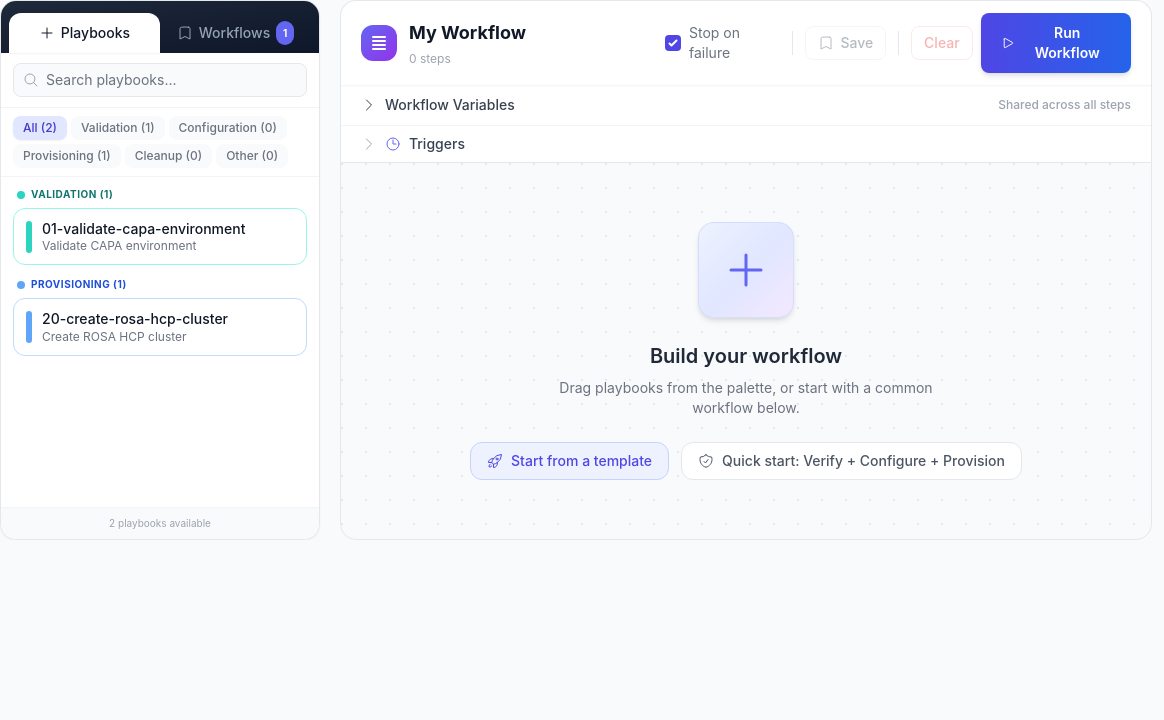
Test: WorkflowBuilder › loads workflow from library via API
// Switch to workflows tab in palette
Click the button "Workflows 1": (236, 33) [160,13,311,53]
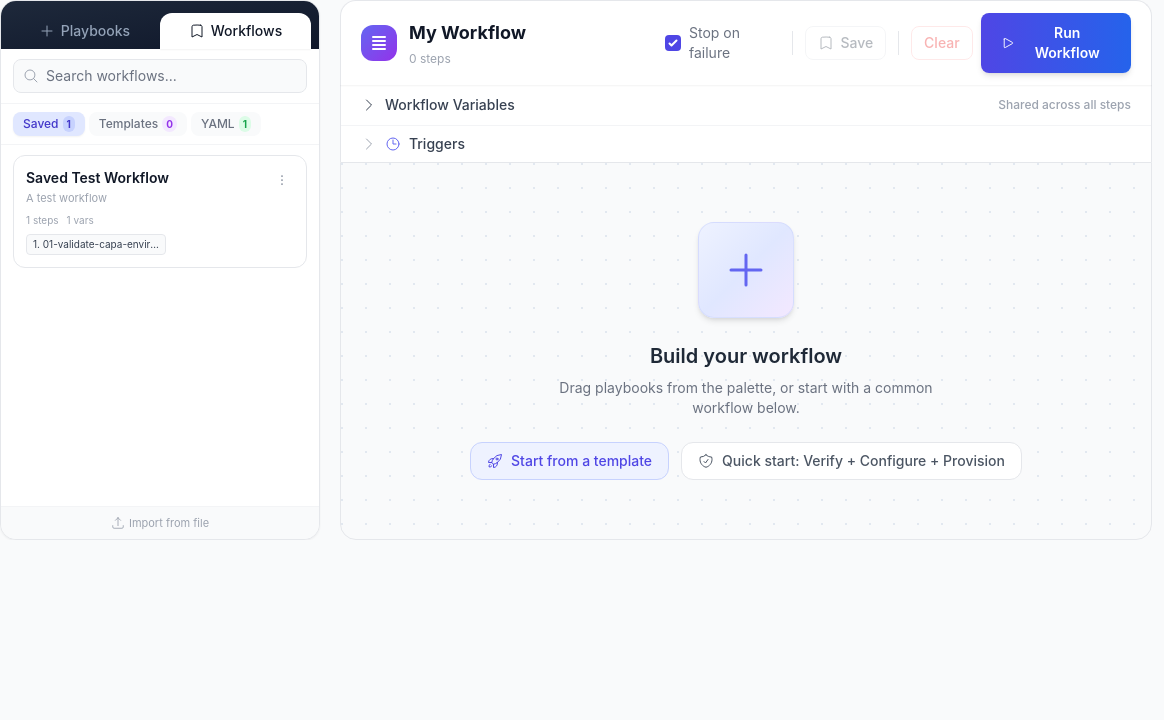
Expected: the heading "Saved Test Workflow" is shown
// Load the workflow
Click the heading "Saved Test Workflow": (98, 178) [26,168,169,188]
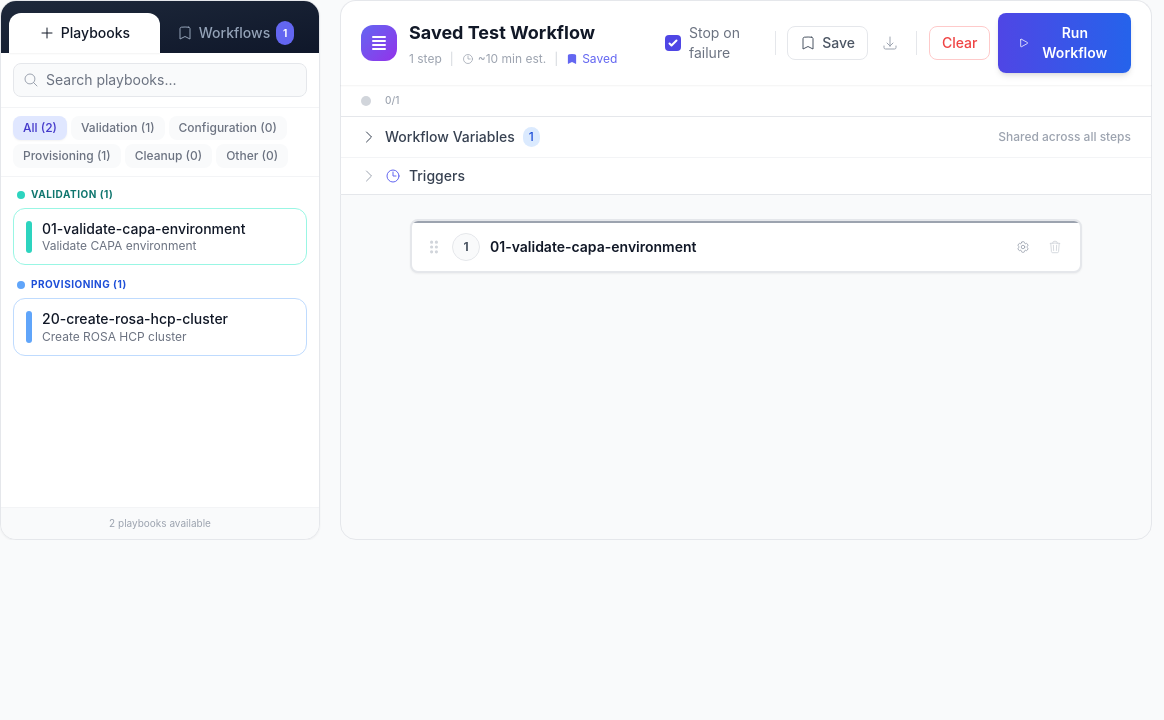
Expected: the field showing "Saved Test Workflow" is shown, [409,19,665,49]
